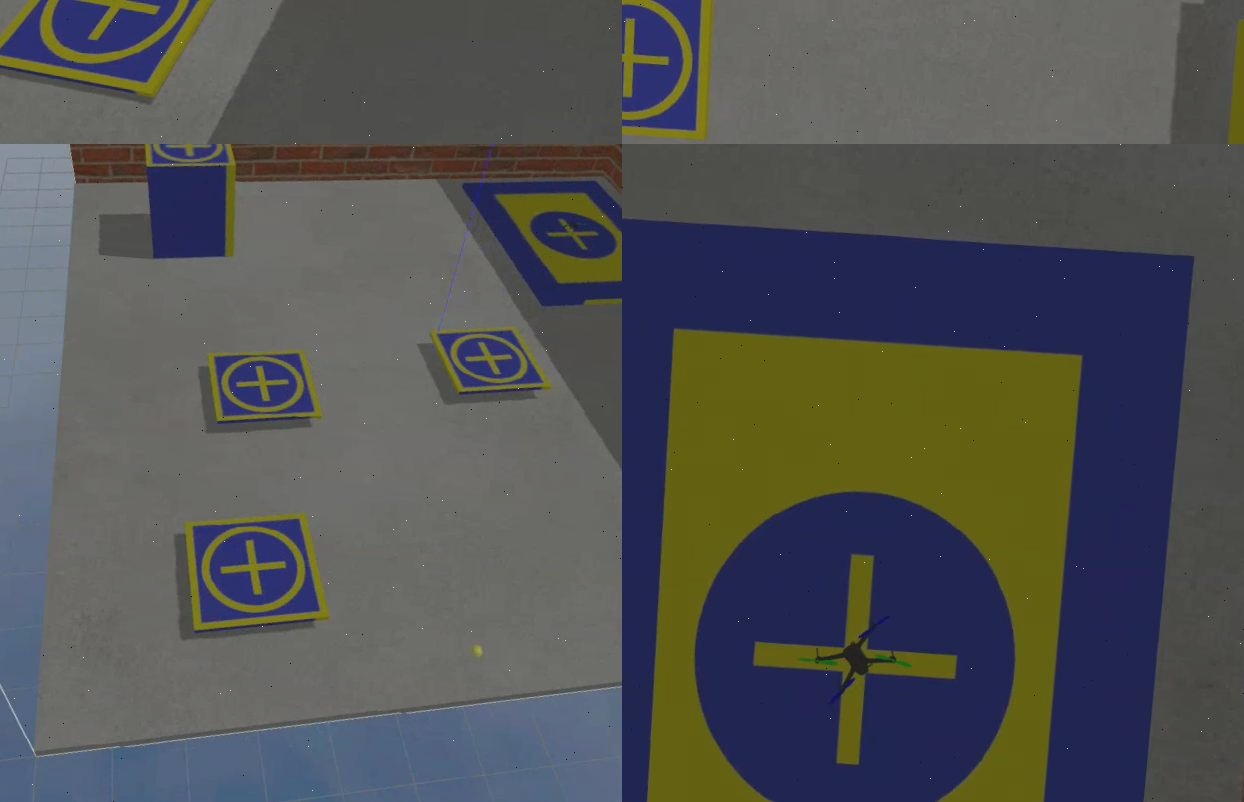large_base: (623, 207, 1190, 802), (447, 172, 623, 328)
small_base: (0, 1, 245, 111), (175, 505, 333, 650), (623, 1, 722, 143), (197, 344, 326, 438), (427, 324, 554, 409), (139, 145, 242, 175)
